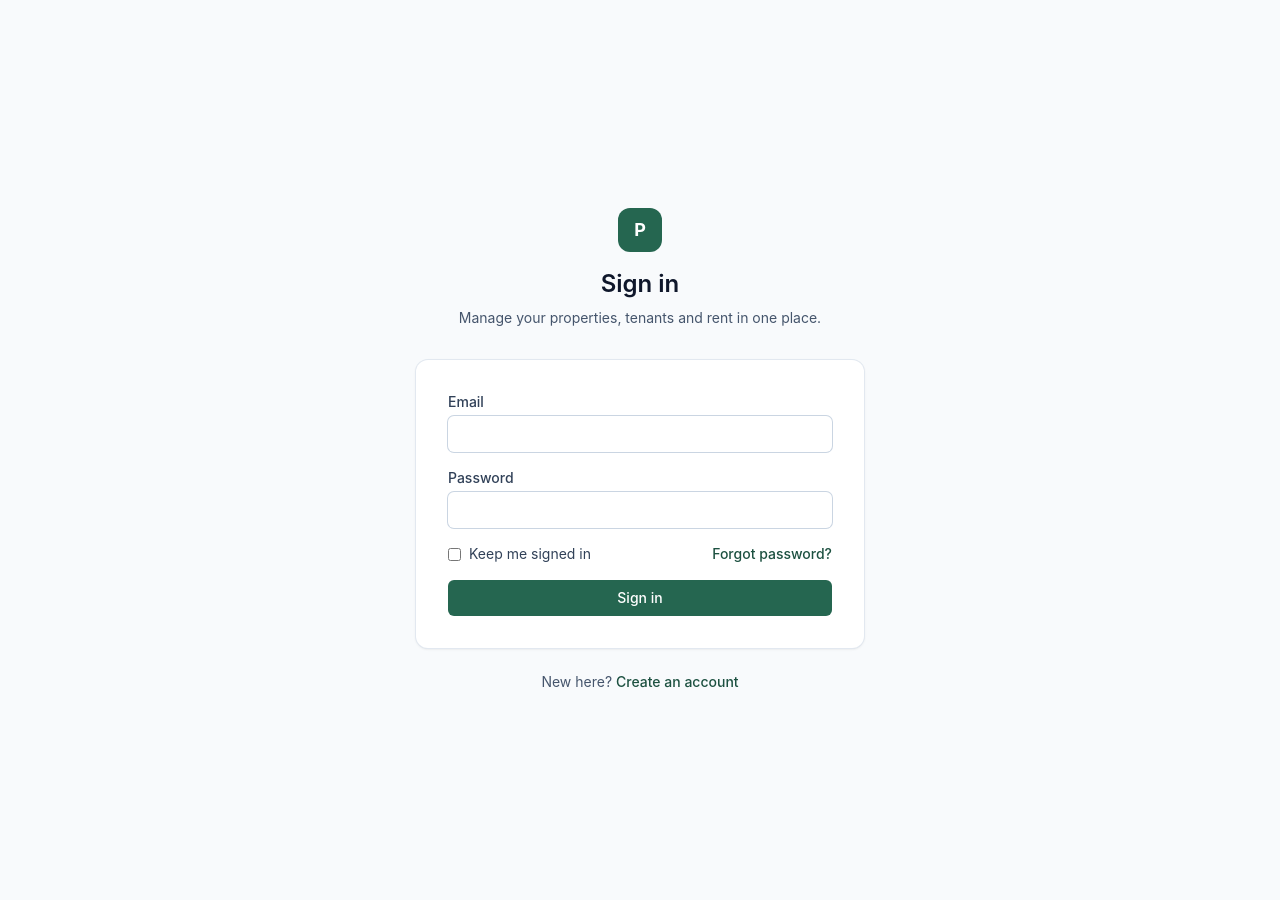
Test case: sign in › opens the dashboard after signing in
In the field labelled "Email": coordinates (640, 434) [448,416,832,452], type "seun@example.com"
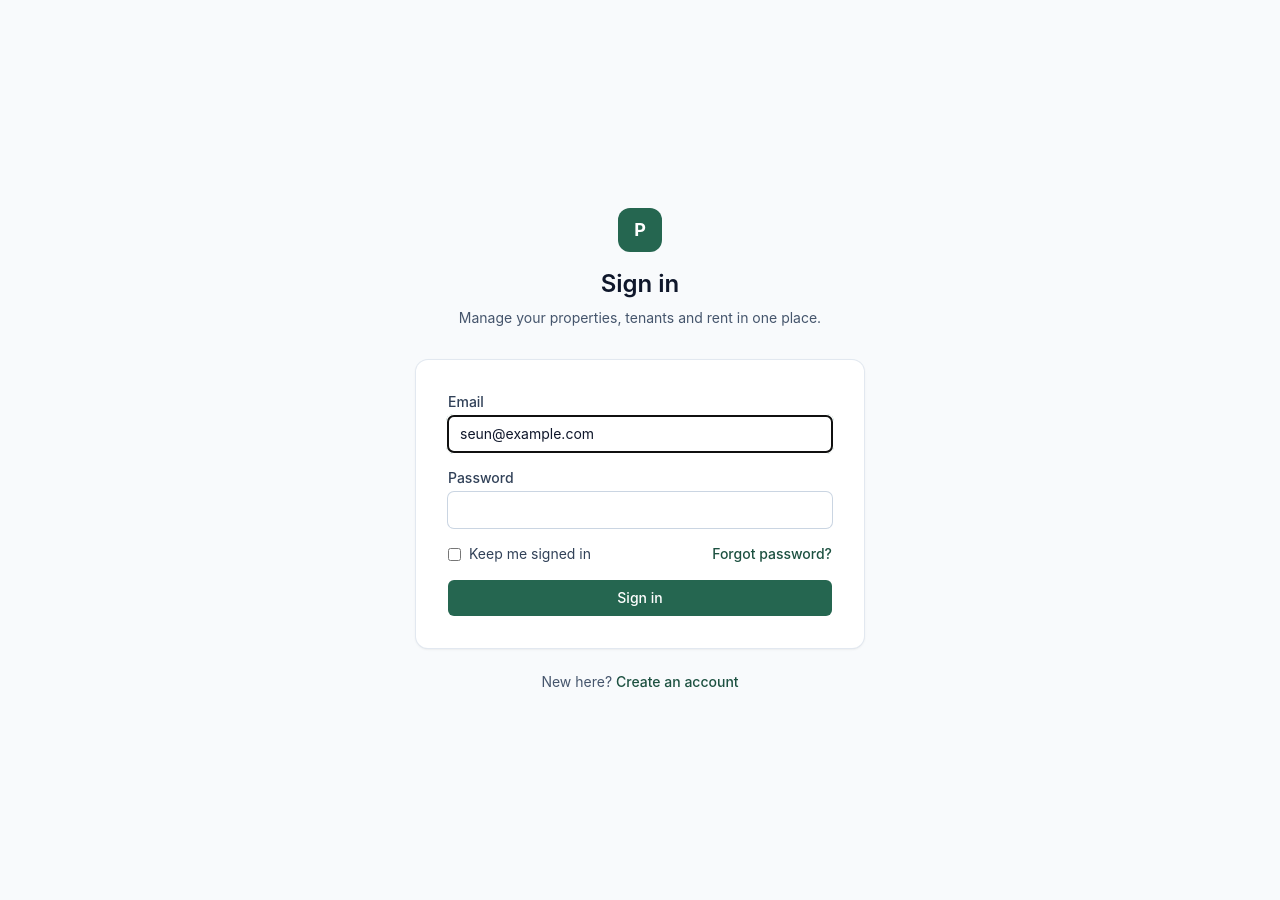
In the password field labelled "Password": coordinates (640, 510) [448,492,832,528], type "correct-horse-42"
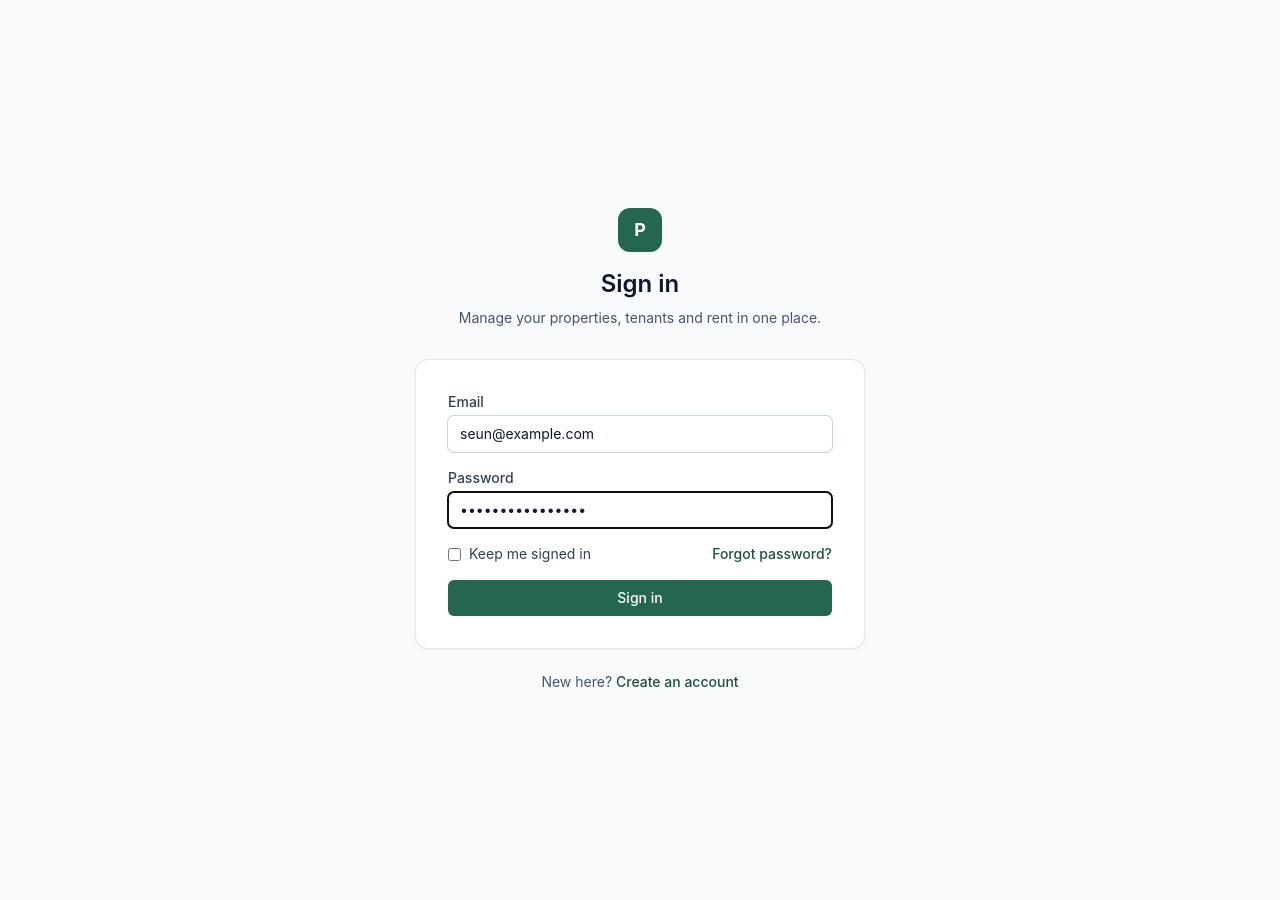
Click the button "Sign in": coordinates (640, 598) [448,580,832,616]
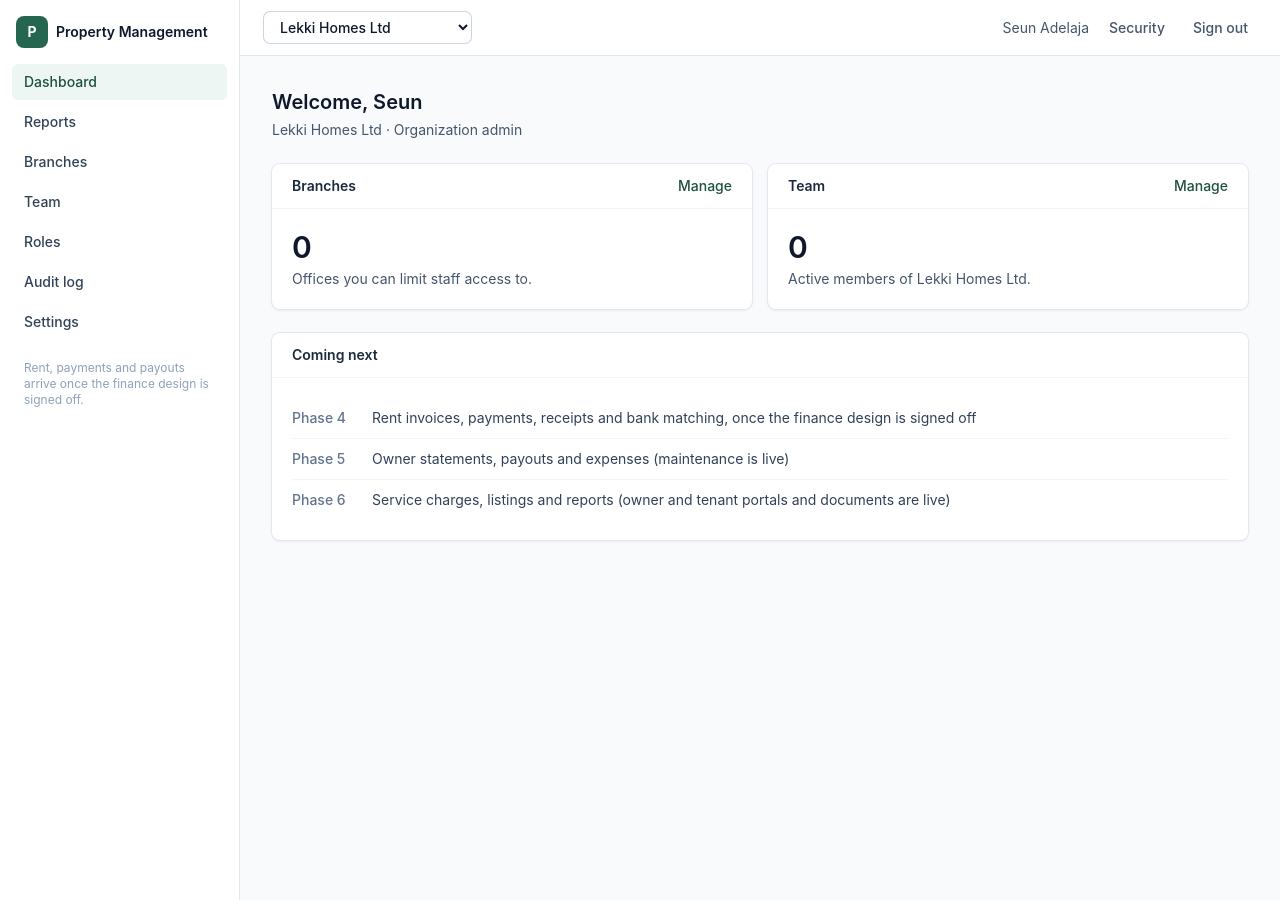
expect the heading "Welcome, Seun" is shown: met, box [272,90,422,114]
